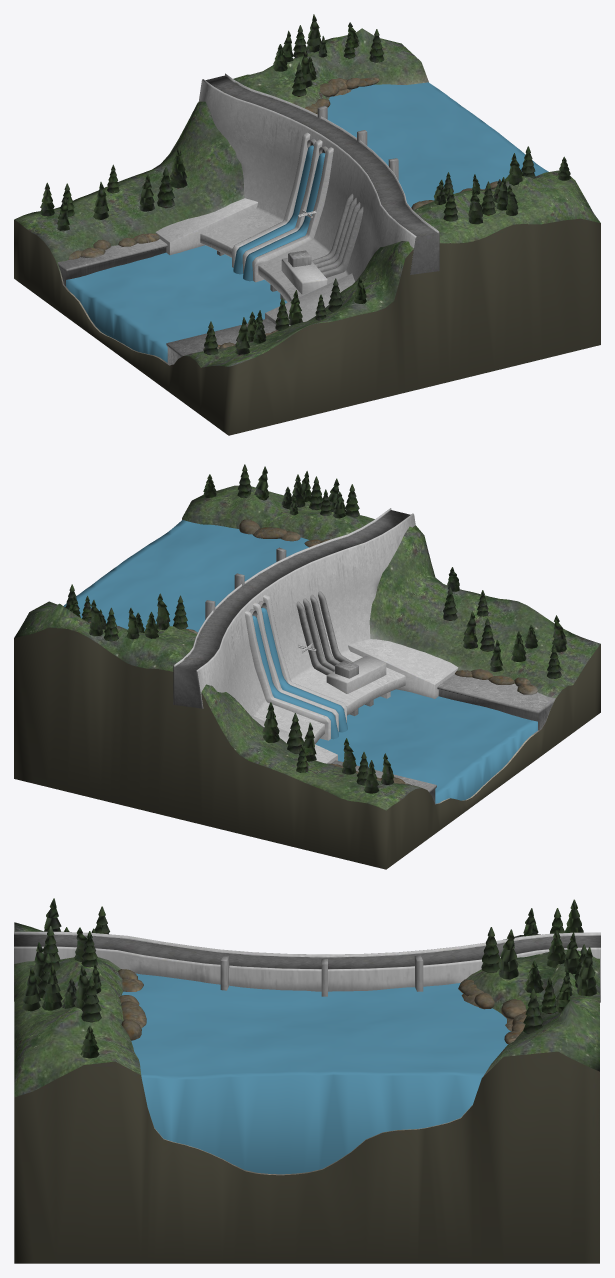
Rendered from Dam Hydroelectric power station Low-poly 3D model.obj.
3 renders of one model, top to bottom at view 1: azimuth 30°, elevation 25°; view 2: azimuth 150°, elevation 25°; view 3: azimuth 270°, elevation 25°, orthographic. The views are drawn at different scales.
Visible parts, largest first — view 1: desirefx_me_3_mesh0_mesh0000.002, desirefx_me_1_mesh0_mesh0000, desirefx_me_2_mesh0_mesh0000.001; view 2: desirefx_me_3_mesh0_mesh0000.002, desirefx_me_1_mesh0_mesh0000, desirefx_me_2_mesh0_mesh0000.001; view 3: desirefx_me_3_mesh0_mesh0000.002, desirefx_me_1_mesh0_mesh0000.
Part boxes in pixels (x1,y1,x2,y2): desirefx_me_3_mesh0_mesh0000.002: (14, 14, 600, 435); desirefx_me_1_mesh0_mesh0000: (66, 82, 548, 362); desirefx_me_2_mesh0_mesh0000.001: (233, 145, 325, 281); desirefx_me_3_mesh0_mesh0000.002: (14, 464, 600, 869); desirefx_me_1_mesh0_mesh0000: (63, 520, 537, 803); desirefx_me_2_mesh0_mesh0000.001: (252, 607, 347, 739); desirefx_me_3_mesh0_mesh0000.002: (14, 898, 600, 1263); desirefx_me_1_mesh0_mesh0000: (121, 973, 511, 1174).
Size of the model in its own units: 9.99 by 4.99 by 10.
4 materials, 3 textured.
